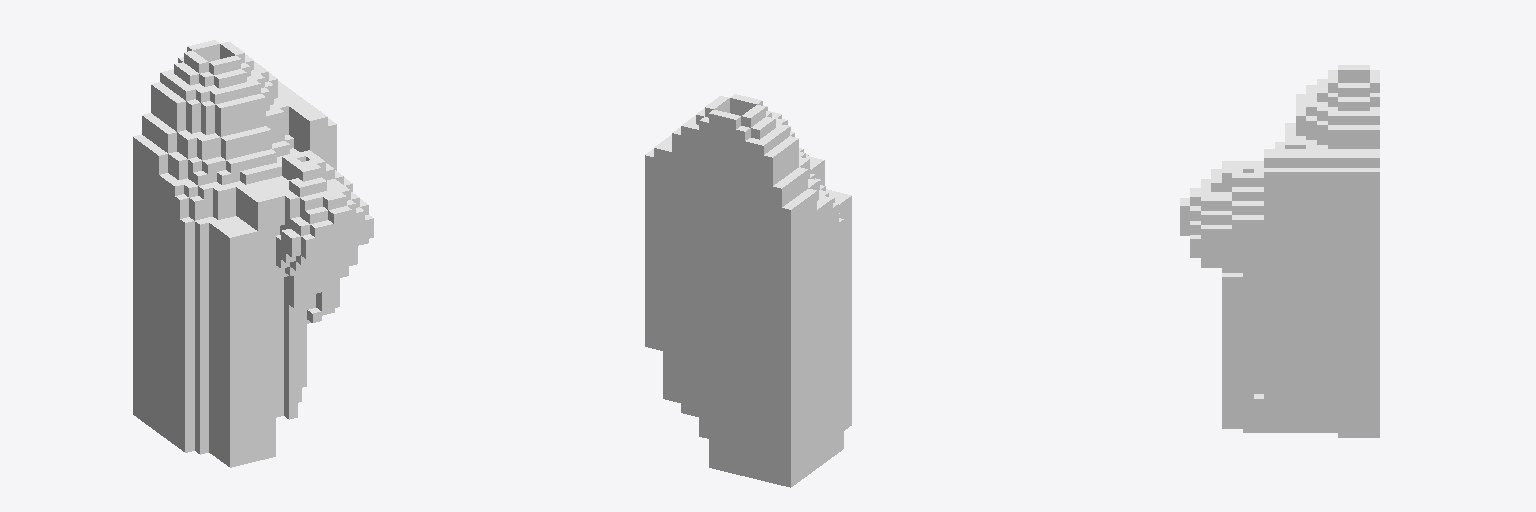
The model's file is beach9.obj.
3 views of the same model, side by side, from view 1: azimuth 30°, elevation 25°; view 2: azimuth 150°, elevation 25°; view 3: azimuth 270°, elevation 25° (orthographic).
Visible parts, largest first — view 1: object 1; view 2: object 1; view 3: object 1.
Part boxes in pixels (x1,y1,x2,y2): object 1: (133,40,373,467); object 1: (645,94,851,487); object 1: (1180,65,1379,437).
Size of the model in its own units: 1.6 by 3.7 by 1.9.